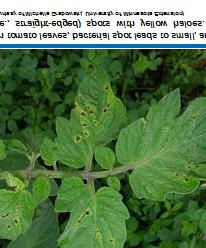Tomato leaf bacterial spot: (118, 89, 206, 206), (50, 67, 126, 170), (57, 173, 138, 248), (0, 181, 40, 241)
